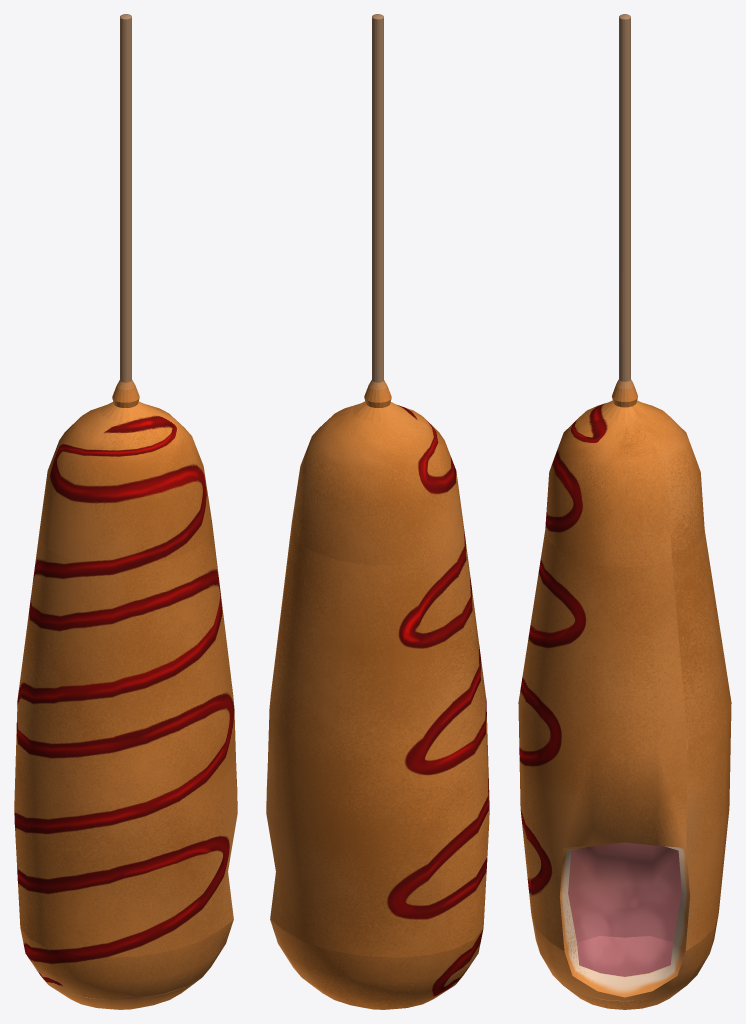
File: CornDog.fbx
3 renders of one model, left to right at view 1: azimuth 30°, elevation 25°; view 2: azimuth 150°, elevation 25°; view 3: azimuth 270°, elevation 25°, orthographic.
Parts seen in each view (by area): view 1: Corn dog; view 2: Corn dog; view 3: Corn dog.
Part boxes in pixels (x1,y1,x2,y2): Corn dog: (14,14,237,1009); Corn dog: (266,14,489,1009); Corn dog: (518,14,731,1009).
Size of the model in its own units: 25.31 by 119 by 23.41.
